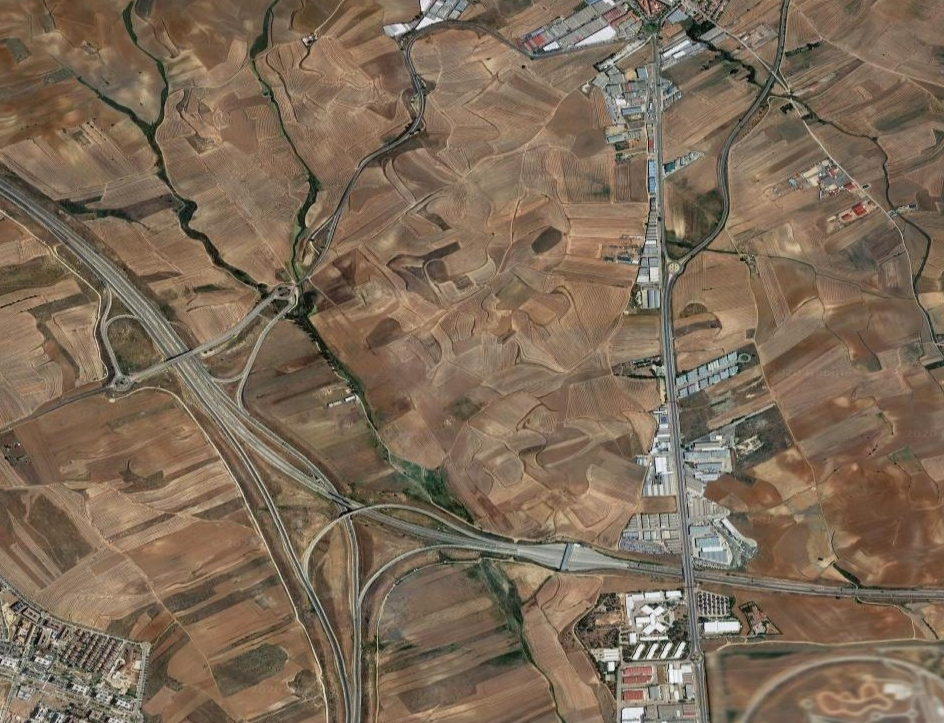industrial: (593, 583, 713, 723), (528, 1, 682, 70)
motorway: (202, 405, 527, 723), (1, 157, 325, 475), (519, 500, 944, 628), (629, 268, 738, 723), (672, 1, 826, 267)
